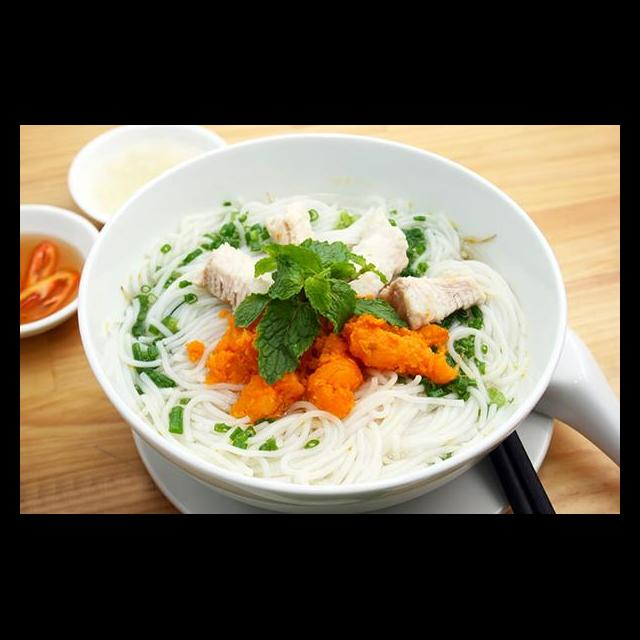bun: (138, 366, 502, 492), (106, 204, 245, 478), (440, 252, 539, 406)
bun ca: (92, 149, 560, 512)
ca: (332, 202, 413, 308), (379, 264, 492, 334), (195, 230, 279, 320)
tom: (337, 308, 464, 388), (225, 326, 319, 426), (201, 298, 290, 390), (301, 326, 369, 424)
